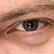eye: (23, 20, 39, 31)
